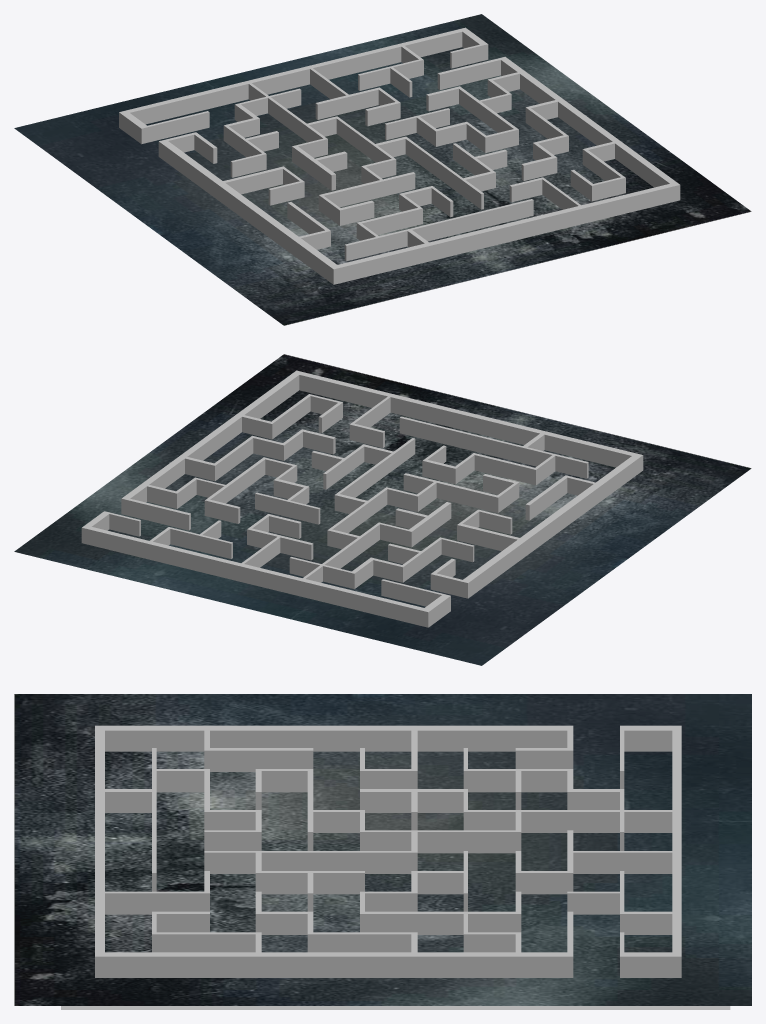
File: maze4.fbx
3 renders of one model, top to bottom at view 1: azimuth 30°, elevation 25°; view 2: azimuth 150°, elevation 25°; view 3: azimuth 270°, elevation 25°, orthographic. The views are drawn at different scales.
Visible parts, largest first — view 1: Plane.001, Plane; view 2: Plane.001, Plane; view 3: Plane.001, Plane.
Boxes of the visible parts, x1,y1,x2,y2 form: Plane.001: (14, 14, 751, 325); Plane: (119, 27, 680, 284); Plane.001: (14, 354, 751, 665); Plane: (81, 370, 643, 627); Plane.001: (14, 694, 751, 1005); Plane: (61, 725, 730, 1009).
Size of the model in its own units: 24665 by 874 by 24561.
